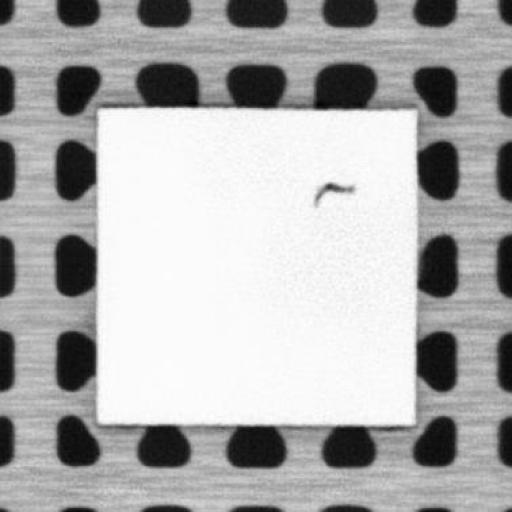DIE_INK: (309, 177, 355, 208)
